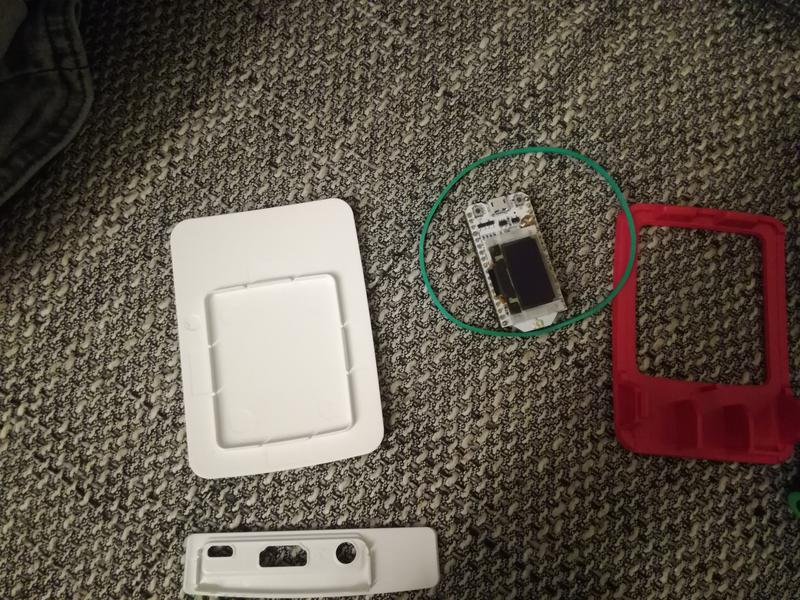Heltec_ESP32_Lora: (463, 188, 575, 337)
